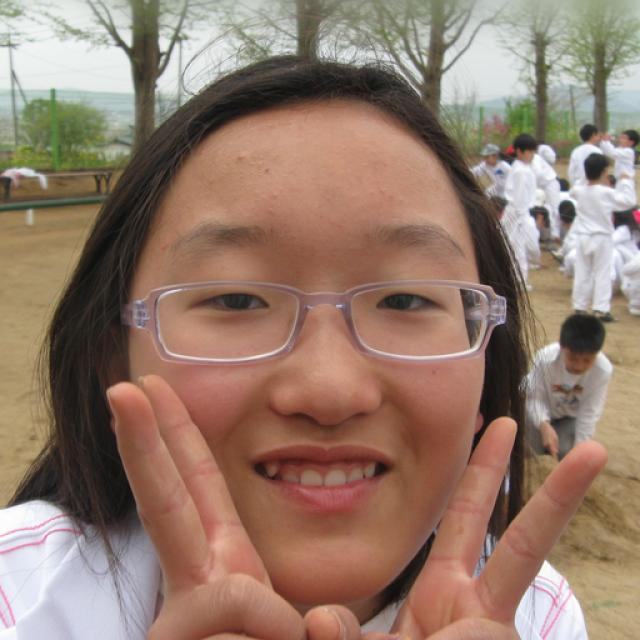Acne: (227, 143, 256, 167)
